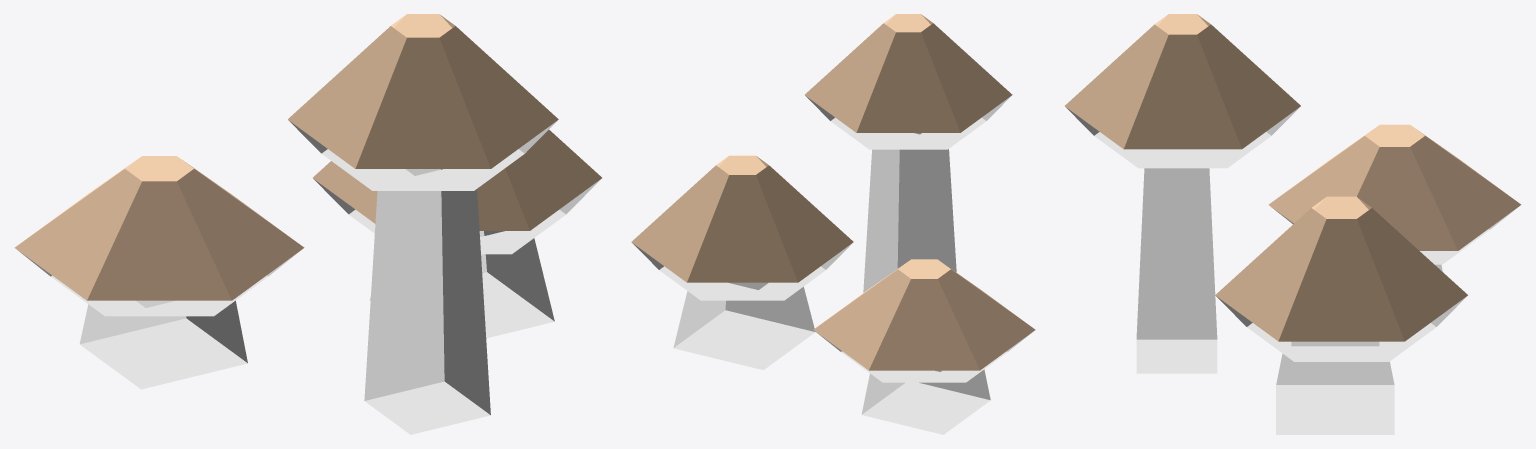
Rendered from mushroom_brownGroup.glb.
3 views of the same model, side by side, from view 1: azimuth 30°, elevation 25°; view 2: azimuth 150°, elevation 25°; view 3: azimuth 270°, elevation 25° (orthographic). The views are drawn at different scales.
Parts seen in each view (by area): view 1: mushroom_brownGroup; view 2: mushroom_brownGroup; view 3: mushroom_brownGroup.
Boxes of the visible parts, x1,y1,x2,y2 form: mushroom_brownGroup: (14, 14, 601, 434); mushroom_brownGroup: (631, 14, 1035, 434); mushroom_brownGroup: (1065, 14, 1521, 434).
Size of the model in its own units: 2.94 by 2.2 by 2.75.
